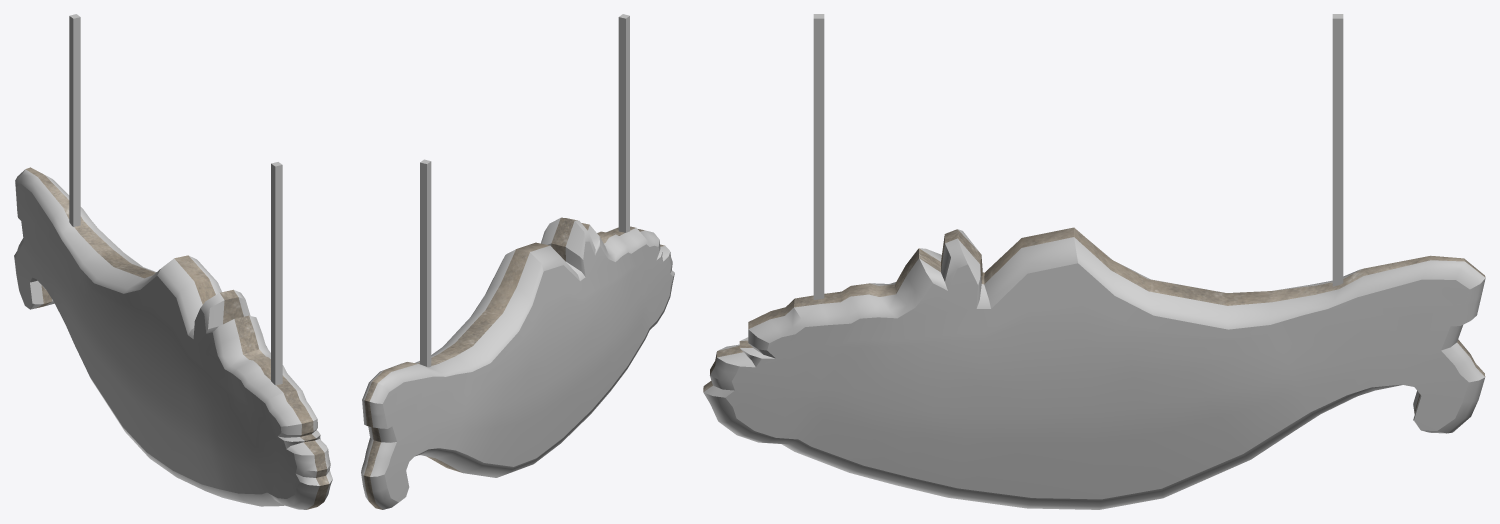
Rendered from SM_M_Fish.FBX.
The picture shows the model from 3 angles, left to right: view 1: azimuth 30°, elevation 25°; view 2: azimuth 150°, elevation 25°; view 3: azimuth 270°, elevation 25°; orthographic projection. The views are drawn at different scales.
Parts seen in each view (by area): view 1: SM_M_Fish; view 2: SM_M_Fish; view 3: SM_M_Fish.
Part boxes in pixels (x1,y1,x2,y2): SM_M_Fish: [14, 14, 332, 509]; SM_M_Fish: [361, 14, 674, 509]; SM_M_Fish: [703, 14, 1485, 509].
Bounding box in the file's own units: 17.93 × 169 × 116.
